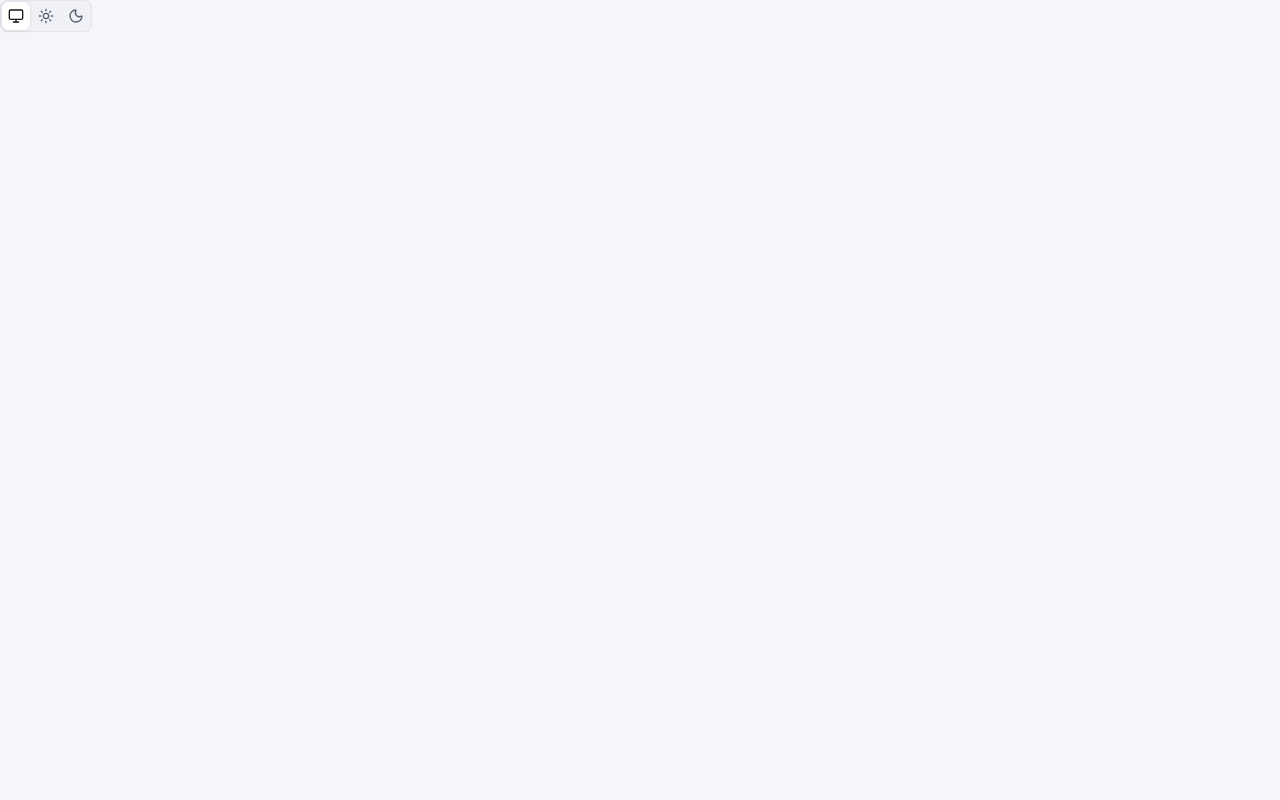
Test: ThemeSwitch › moves the choice with the arrow keys
Click the radio button named "System theme": x=16, y=16 [2, 2, 30, 30]
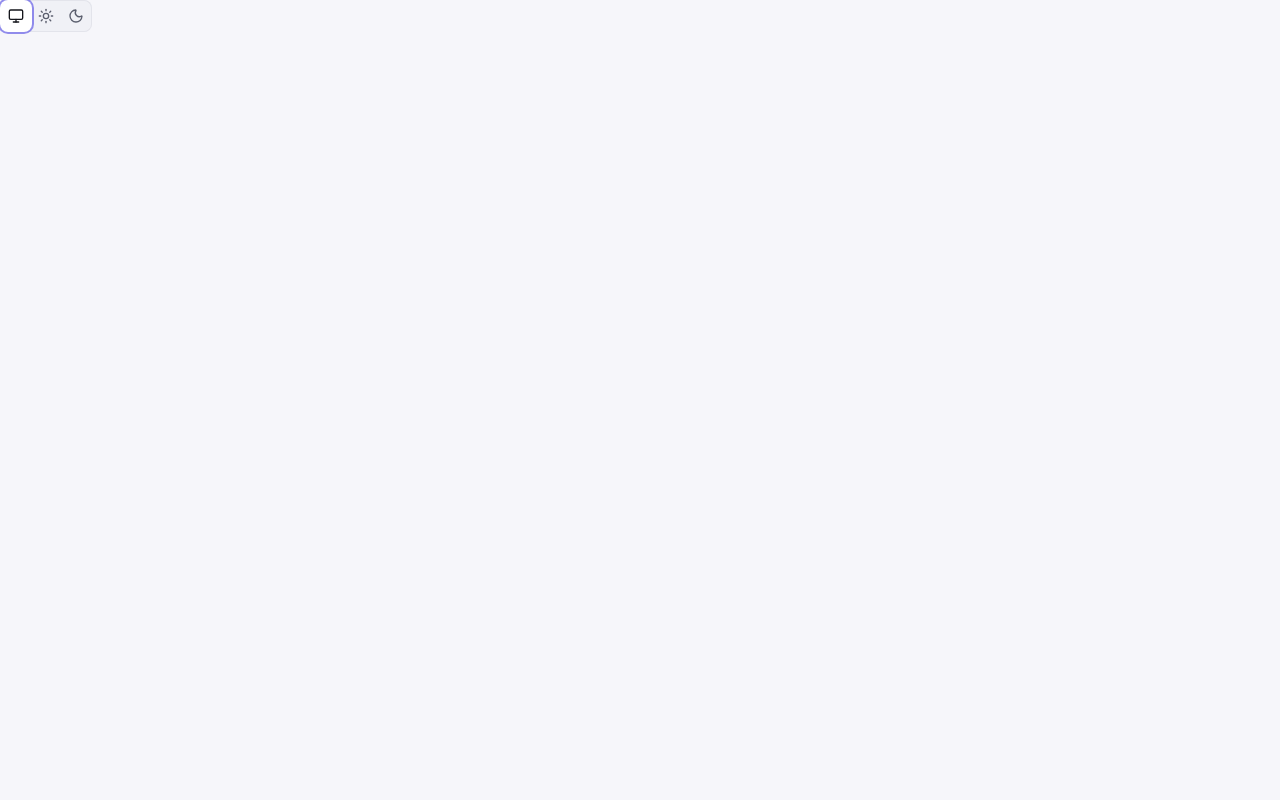
Press Arrowright
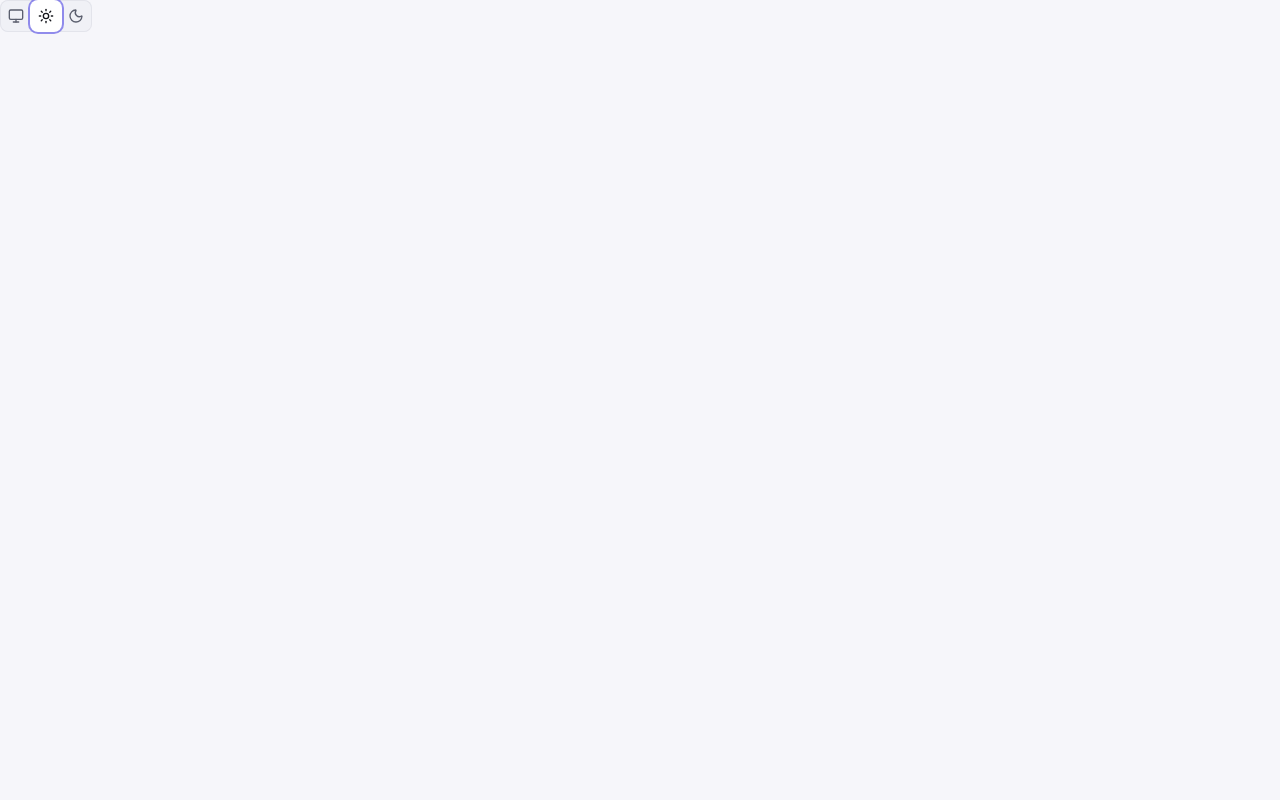
Expected: the radio button named "Light theme" is checked, [32, 2, 60, 30]
Press Arrowleft Arrowleft
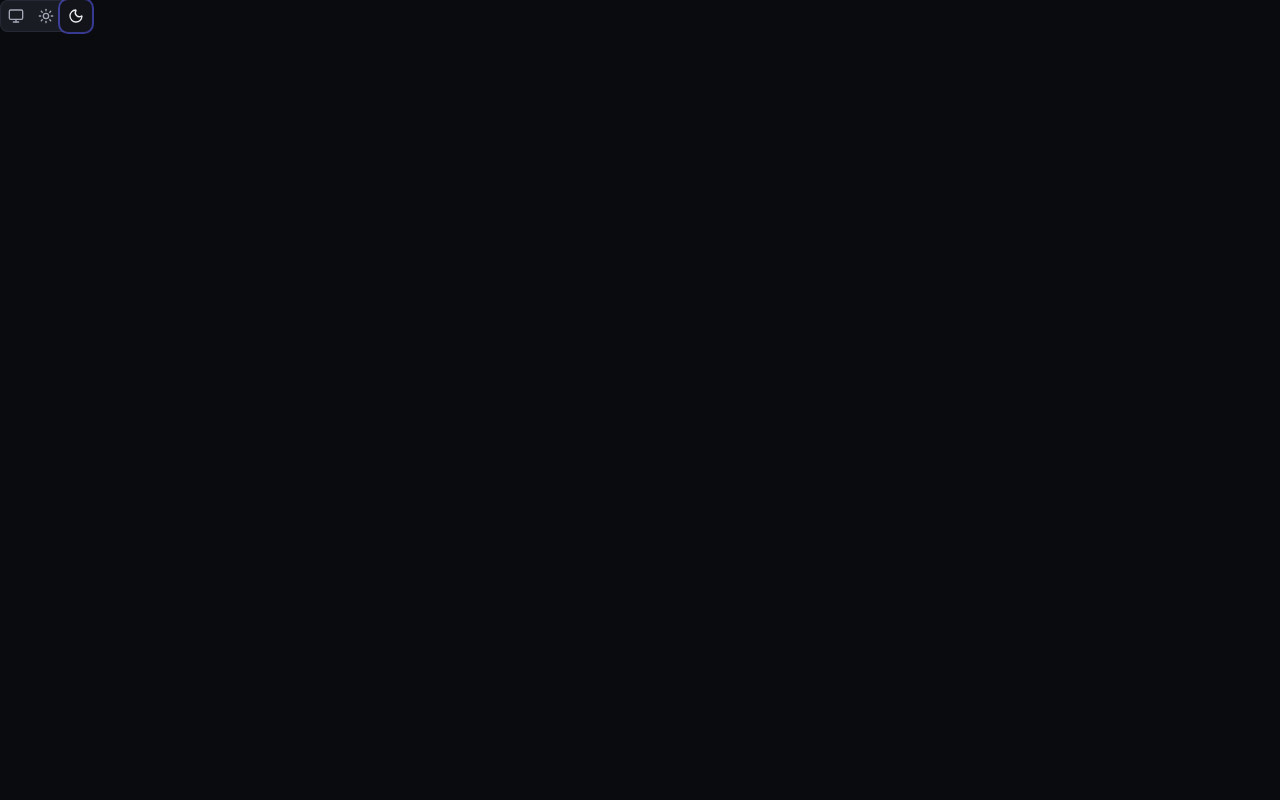
Expected: the radio button named "Dark theme" is checked, [62, 2, 90, 30]
